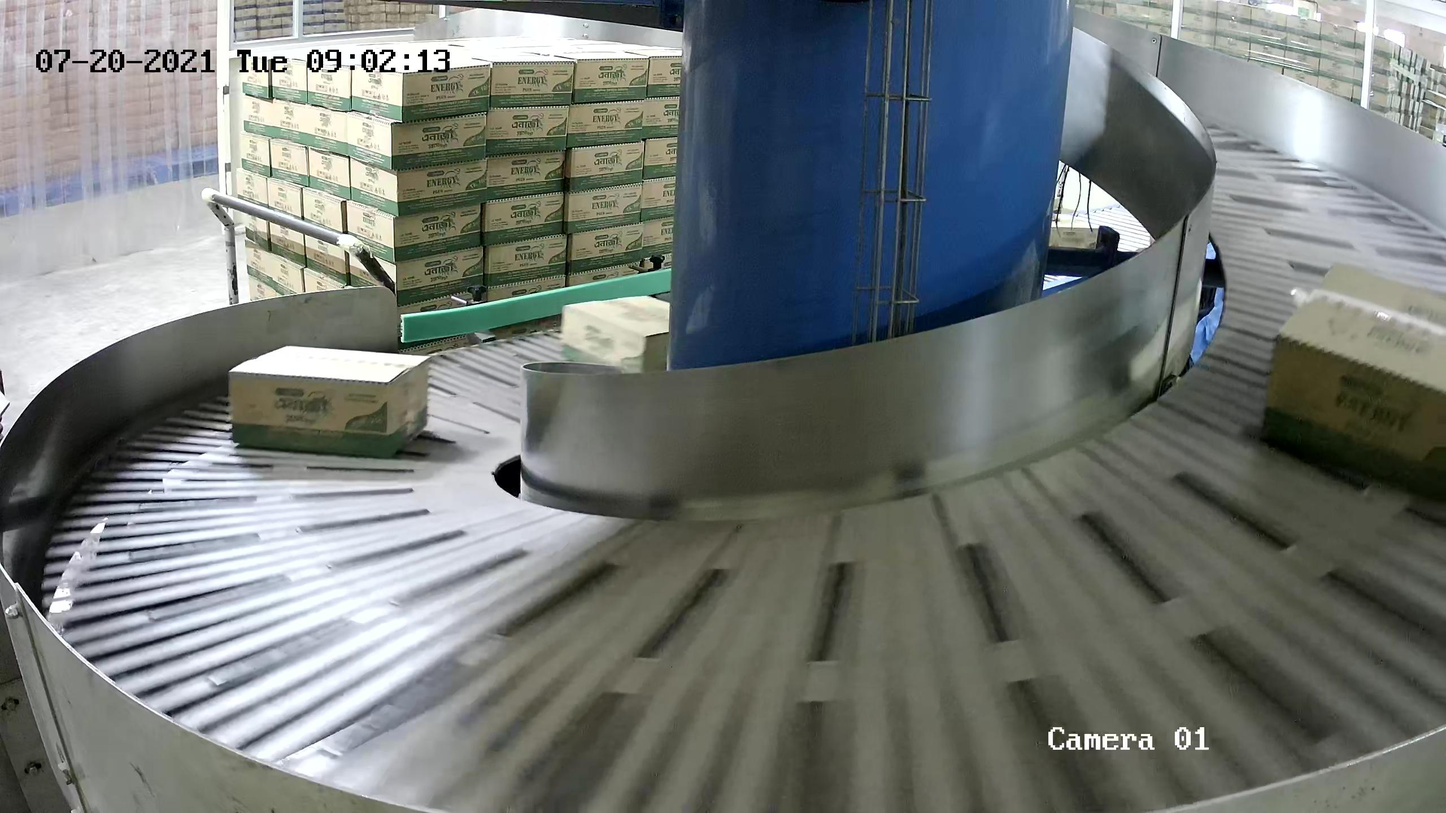Box: (1259, 258, 1446, 508), (227, 344, 431, 458), (558, 294, 670, 375)
